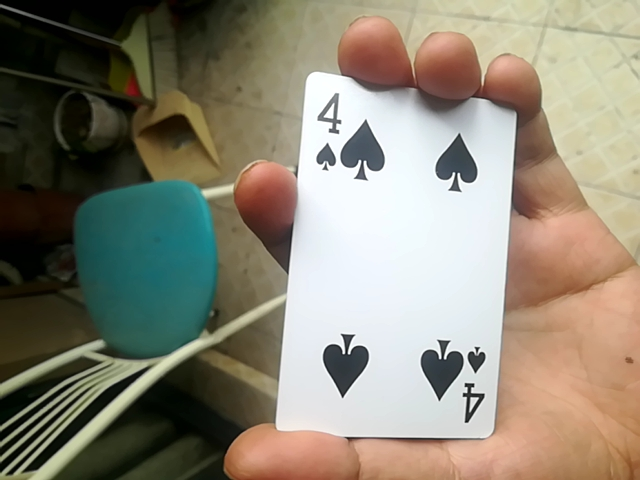ht 4: (271, 73, 511, 441)
